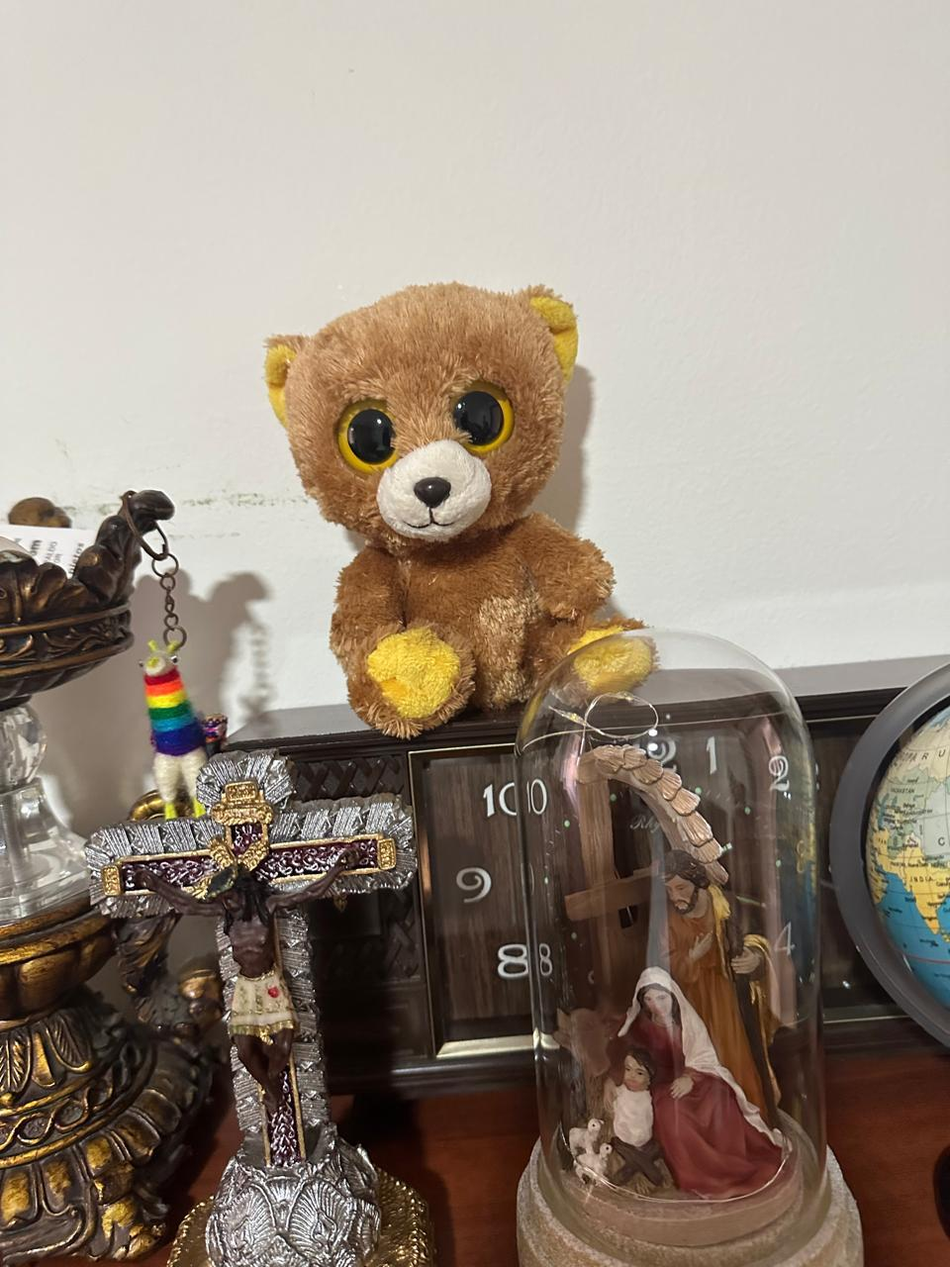peluche_sebastian: (245, 267, 668, 720)
